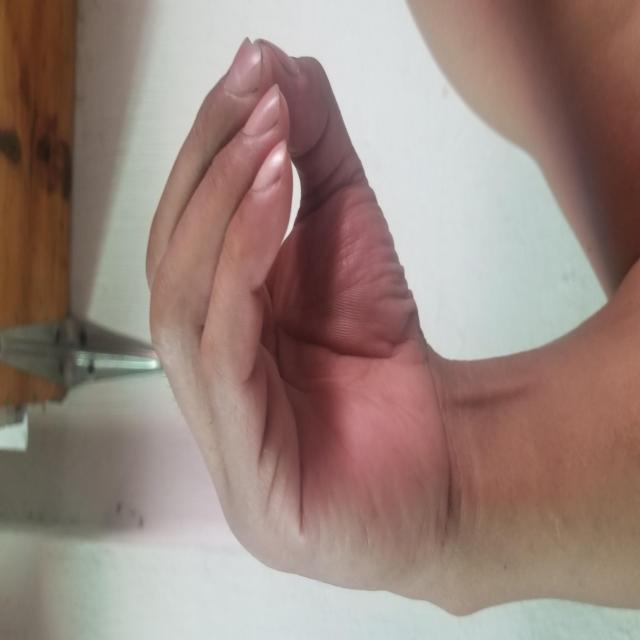O: (50, 144, 608, 439)
